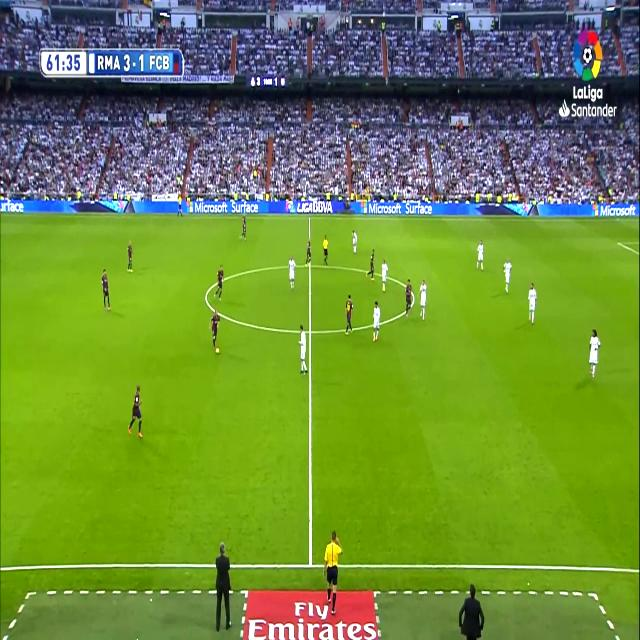halfcircle_bottom: (305, 319, 315, 341)
halfcircle_top: (307, 258, 313, 272)
midline_bottom_intersection: (305, 550, 318, 572)
midline_top_intersection: (306, 211, 313, 224)
